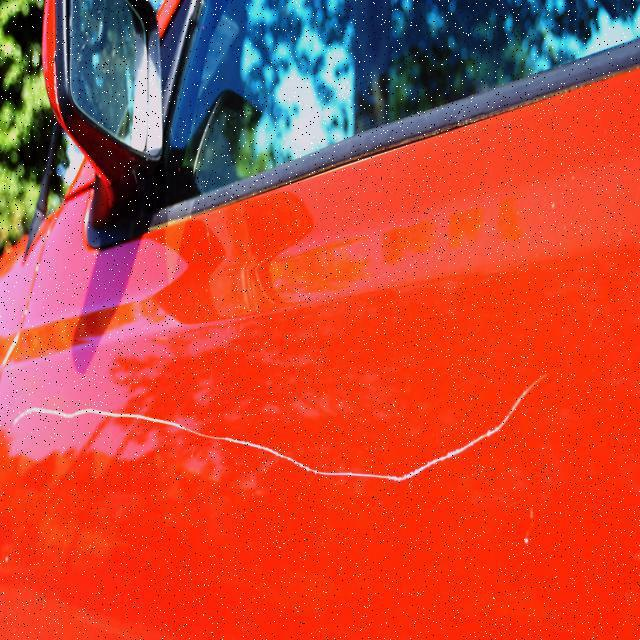car damage: (56, 112, 636, 640)
